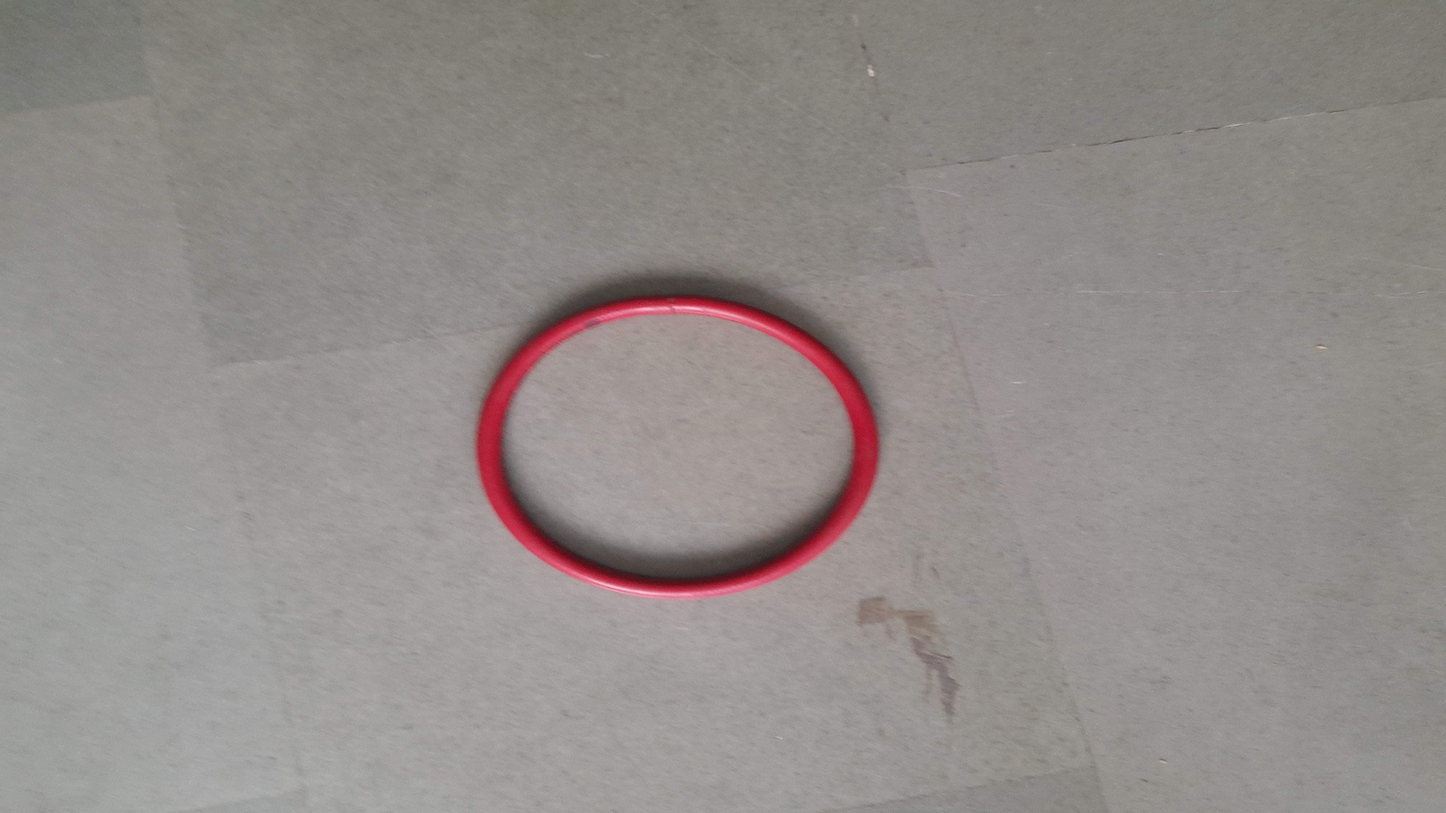Red ring: (474, 295, 884, 596)
